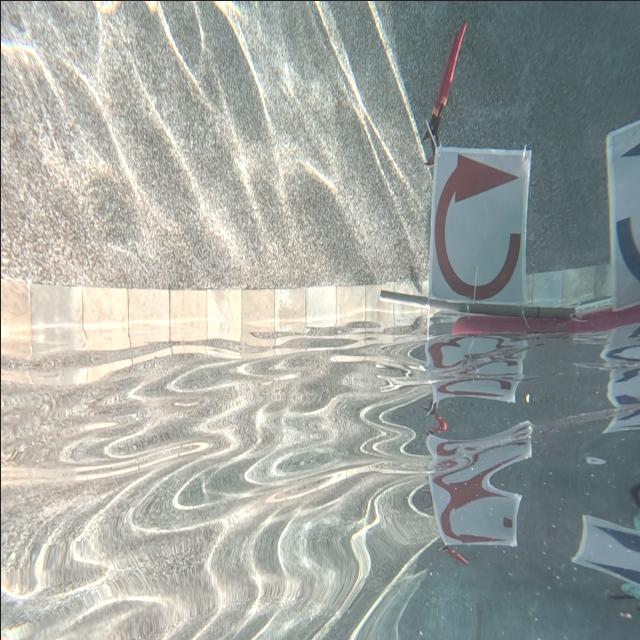blue_side: (611, 136, 640, 304)
red_side: (437, 150, 527, 305)
